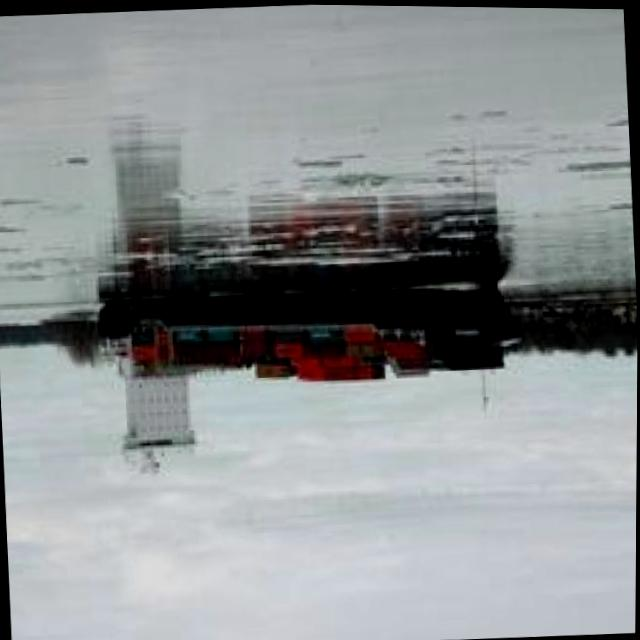ship2: (95, 275, 522, 381)
